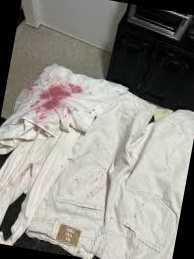lipstick: (32, 80, 83, 123), (46, 84, 68, 106), (68, 80, 90, 99), (0, 182, 9, 194), (85, 190, 95, 199), (141, 199, 149, 207)
